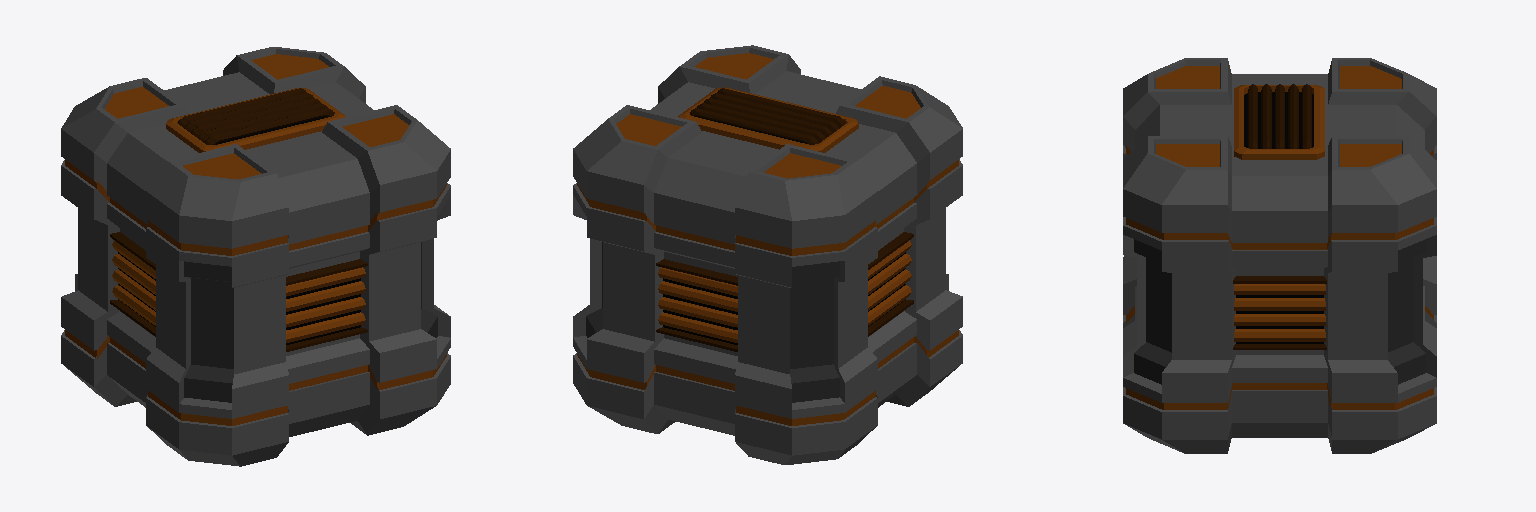
Rendered from Props_Crate.obj.
3 renders of one model, left to right at view 1: azimuth 30°, elevation 25°; view 2: azimuth 150°, elevation 25°; view 3: azimuth 270°, elevation 25°, orthographic.
Parts seen in each view (by area): view 1: Props_Crate_Cube; view 2: Props_Crate_Cube; view 3: Props_Crate_Cube.
Boxes of the visible parts, x1,y1,x2,y2 form: Props_Crate_Cube: [61, 47, 450, 466]; Props_Crate_Cube: [573, 45, 962, 464]; Props_Crate_Cube: [1123, 58, 1436, 453].
Bounding box in the file's own units: 0.7971 × 0.8055 × 0.7971.